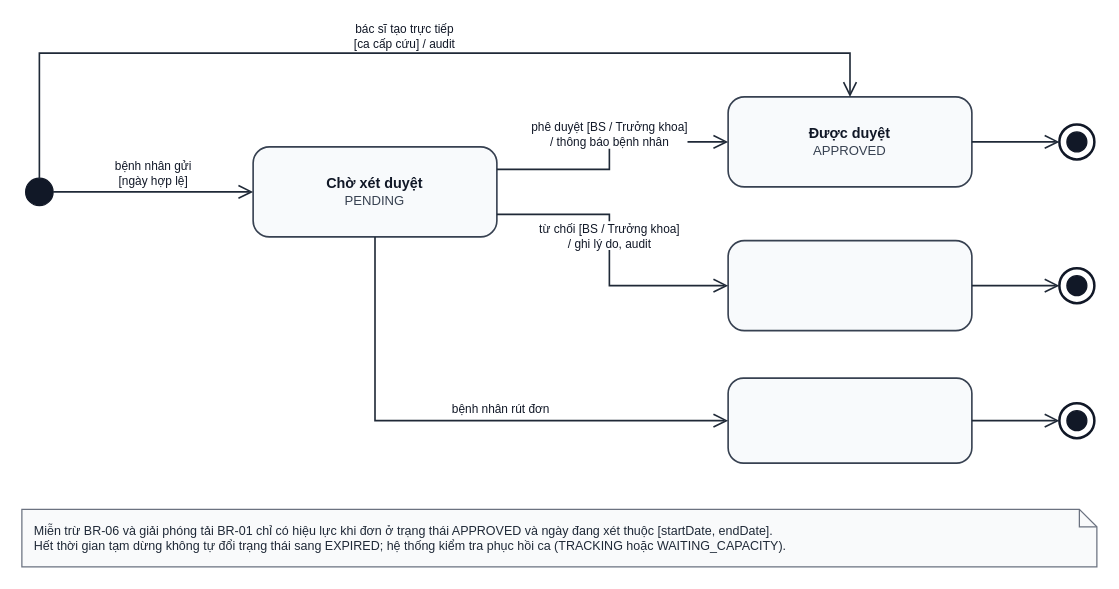
The diagram is 1119 pixels wide and 589 high, and some of its shapes have lost their labels. Here are the shapes that lost their labels. From the top down, the centre of each, then its label:
At point 849,285: "Bị từ chối REJECTED".
At point 849,420: "Đã rút yêu cầu WITHDRAWN".
